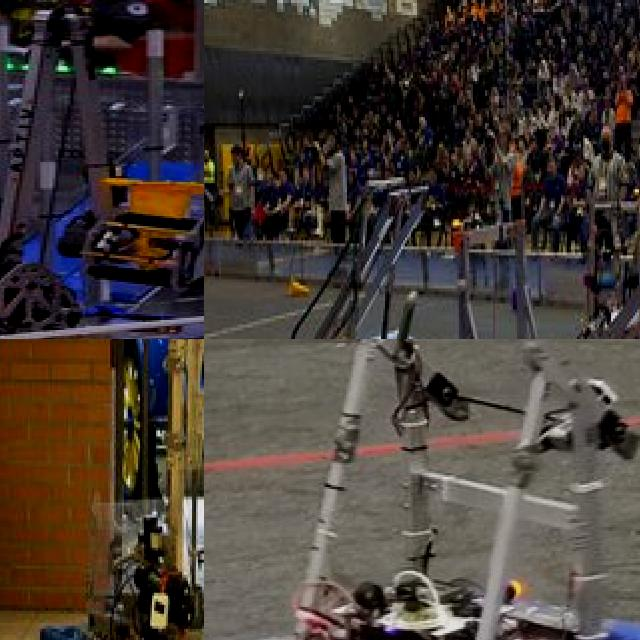FRC-Robots: (204, 339, 640, 640), (0, 0, 204, 339), (389, 126, 640, 339), (30, 339, 204, 640), (279, 133, 425, 339), (522, 129, 640, 339)
